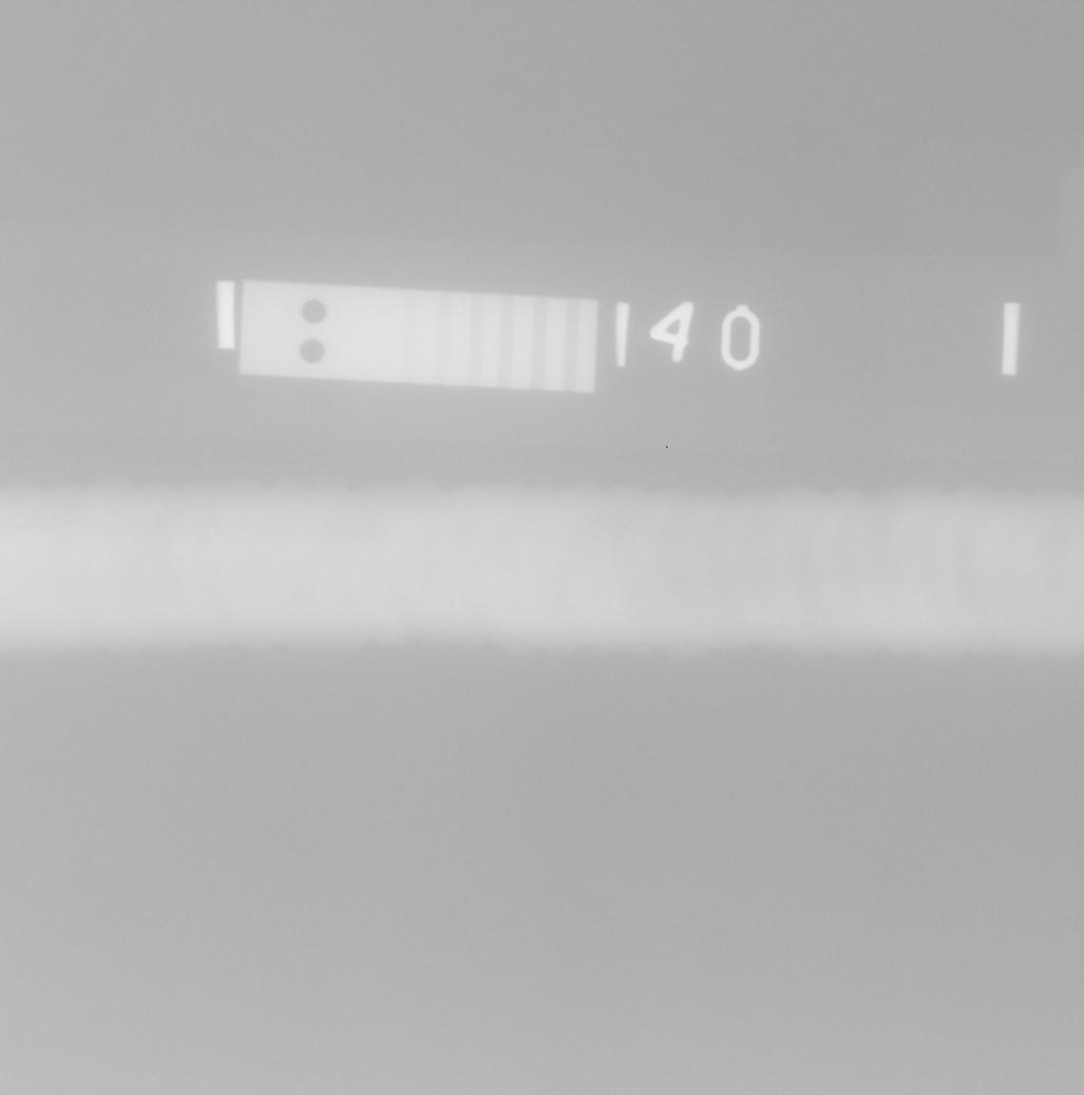Reference Standard 2: (238, 279, 598, 393)
